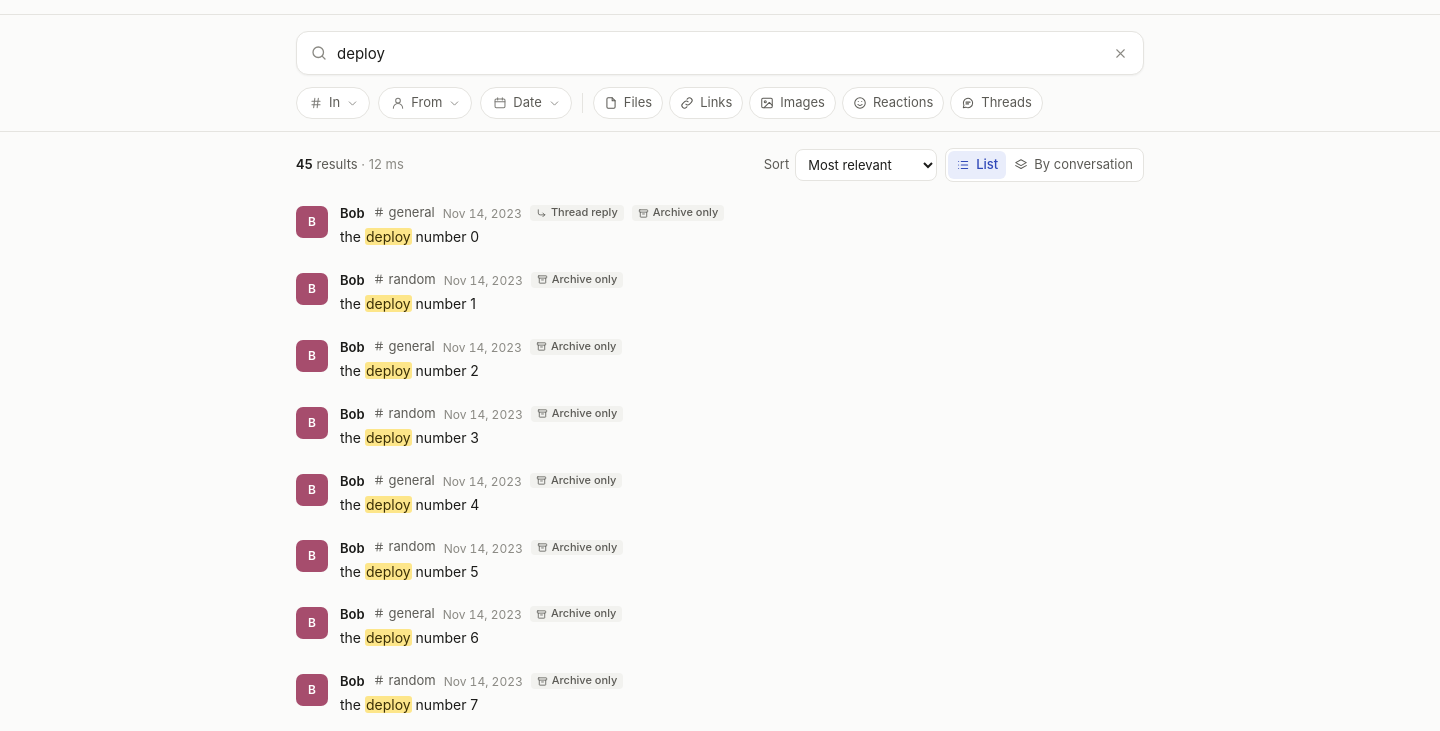
SearchPage › keeps filters in the URL: has toggles, sort and layout
Click the button "Files": coordinates (628, 103) [593,87,663,119]
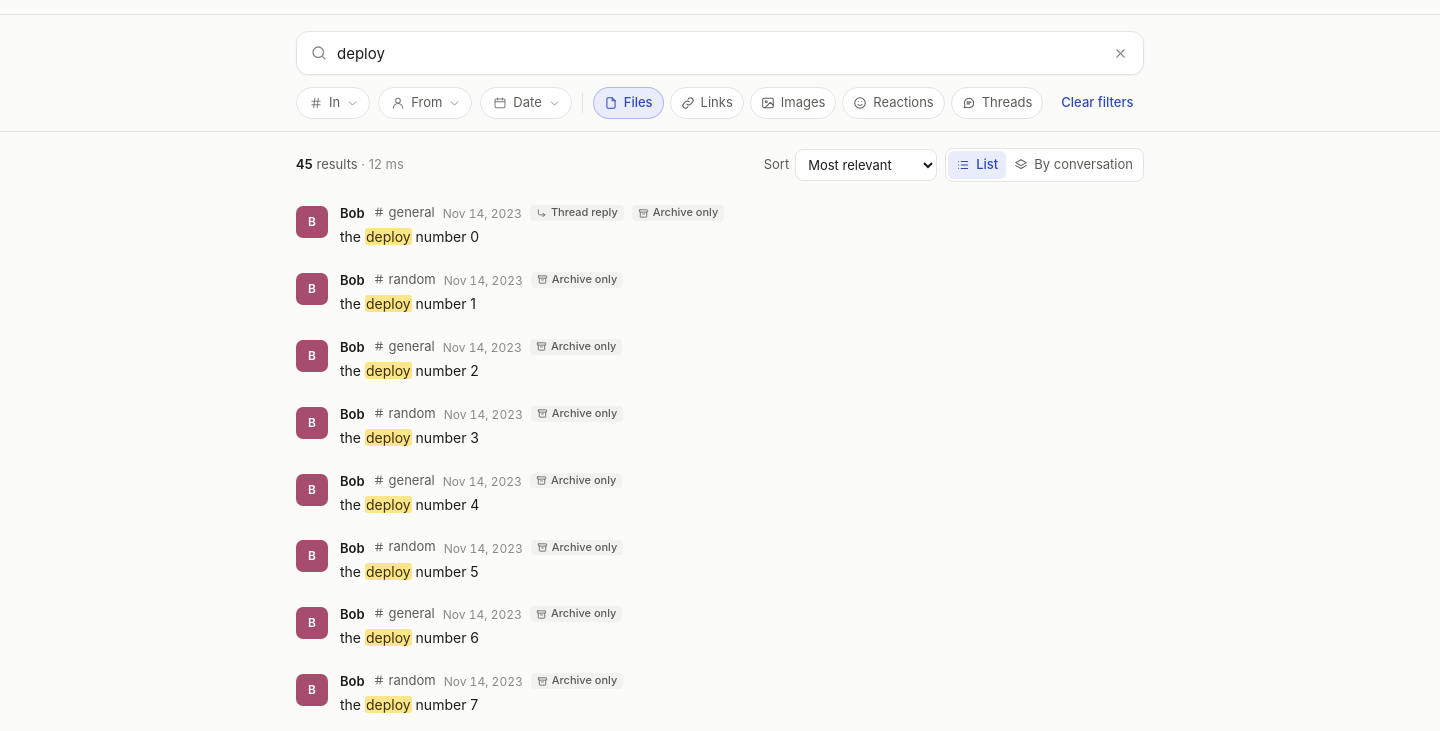
Now the button "Files" is pressed, box [593,87,664,119]
Select "Newest first" in the dropdown labelled "Sort": coordinates (866, 165) [795,149,937,181]
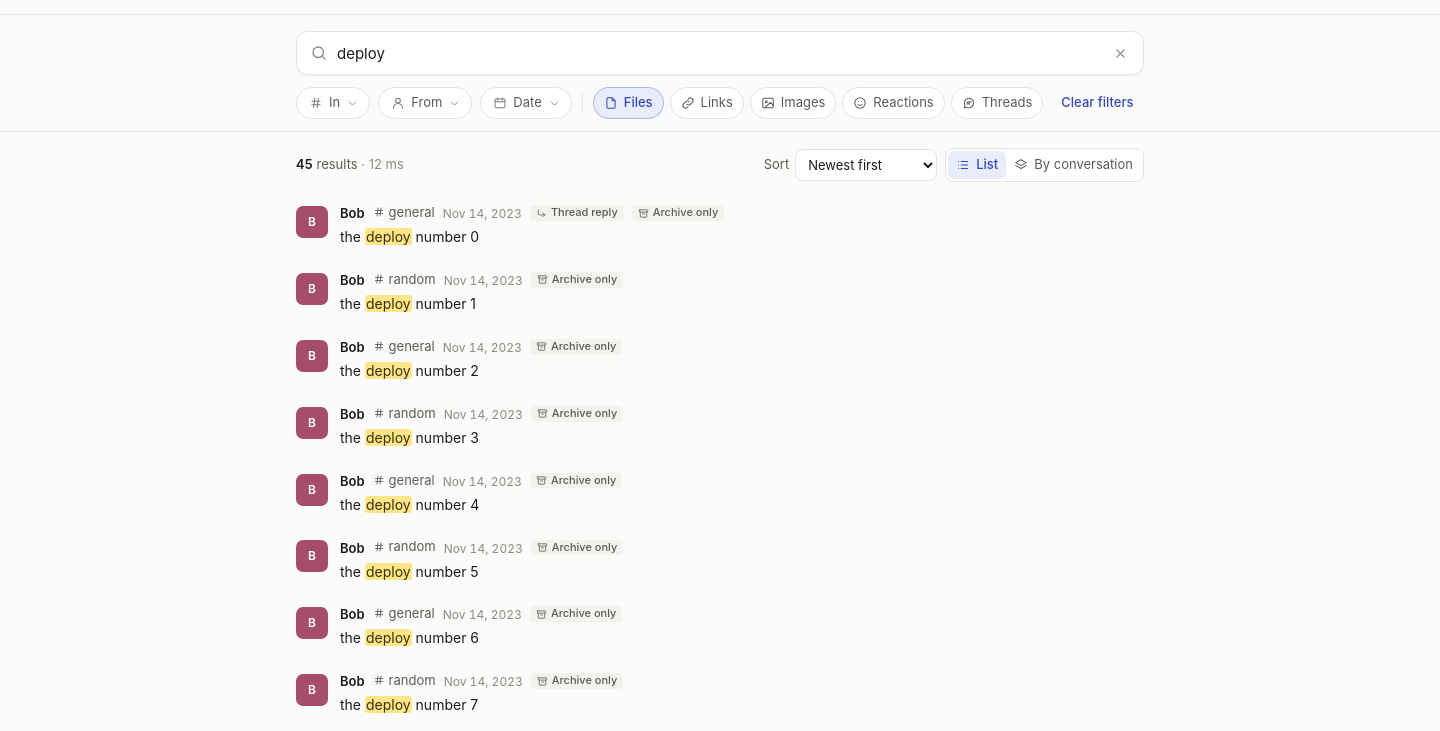
Click the button "By conversation": coordinates (1074, 165) [1006,151,1141,179]
(page scrolled)
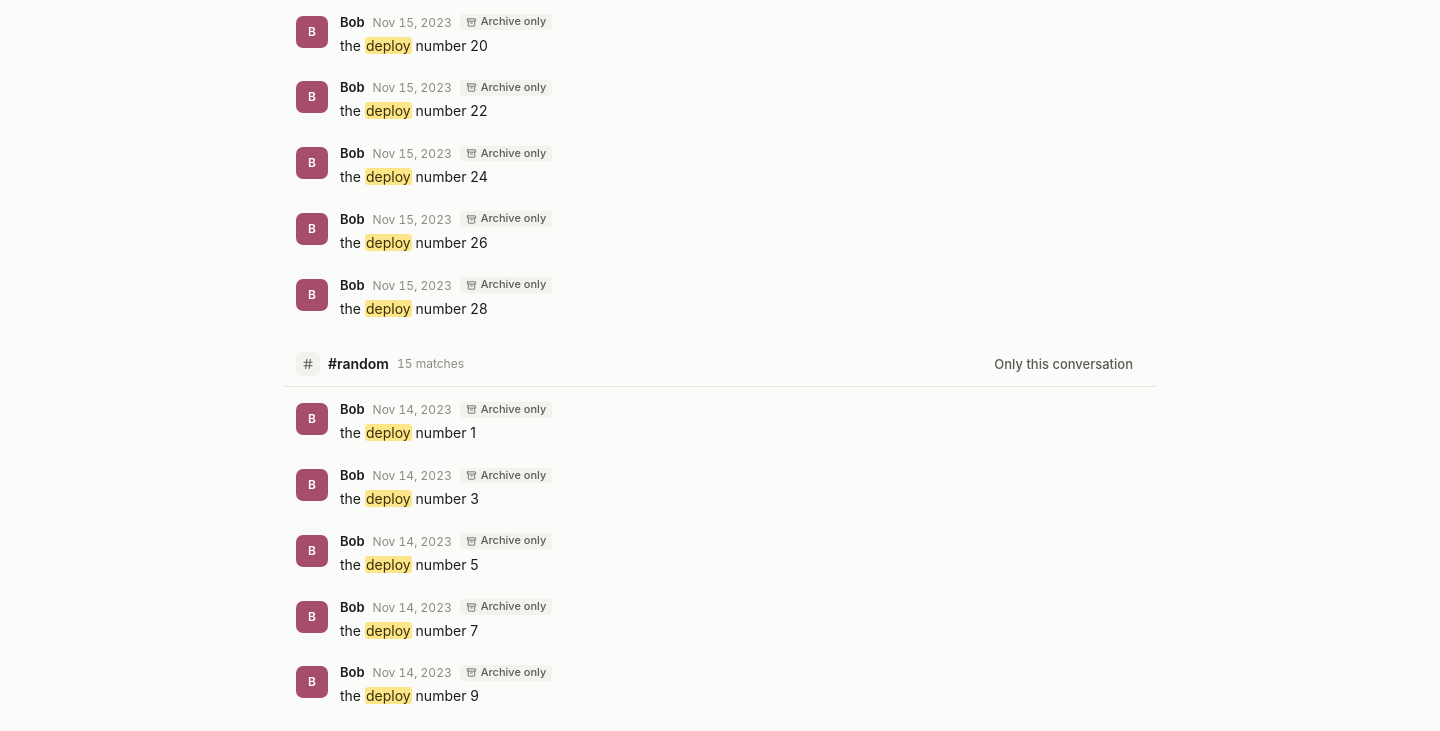
Now the heading "#random" is shown, box [328,354,389,374]
